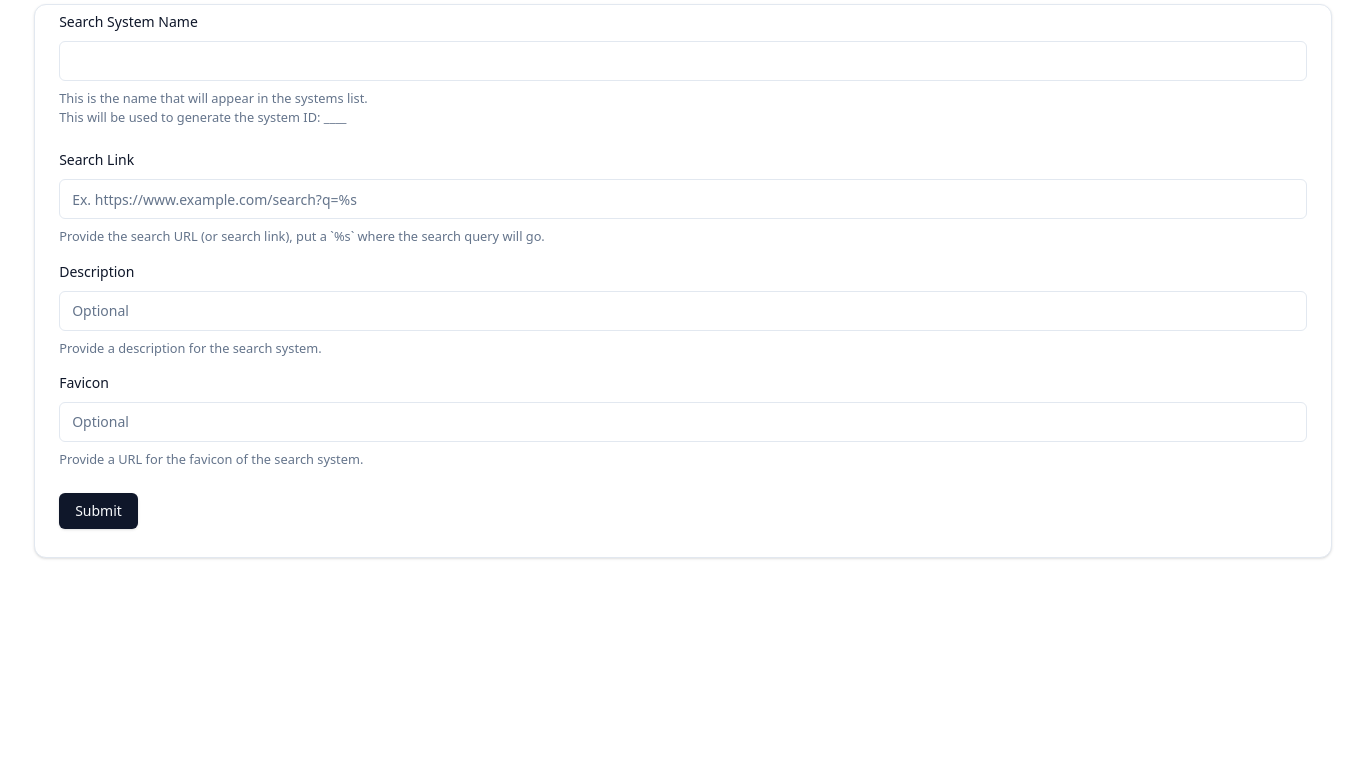
Adding a new search system › displays validation errors for missing required fields
Click the button "Submit": (99, 511) left=59, top=493, right=138, bottom=529
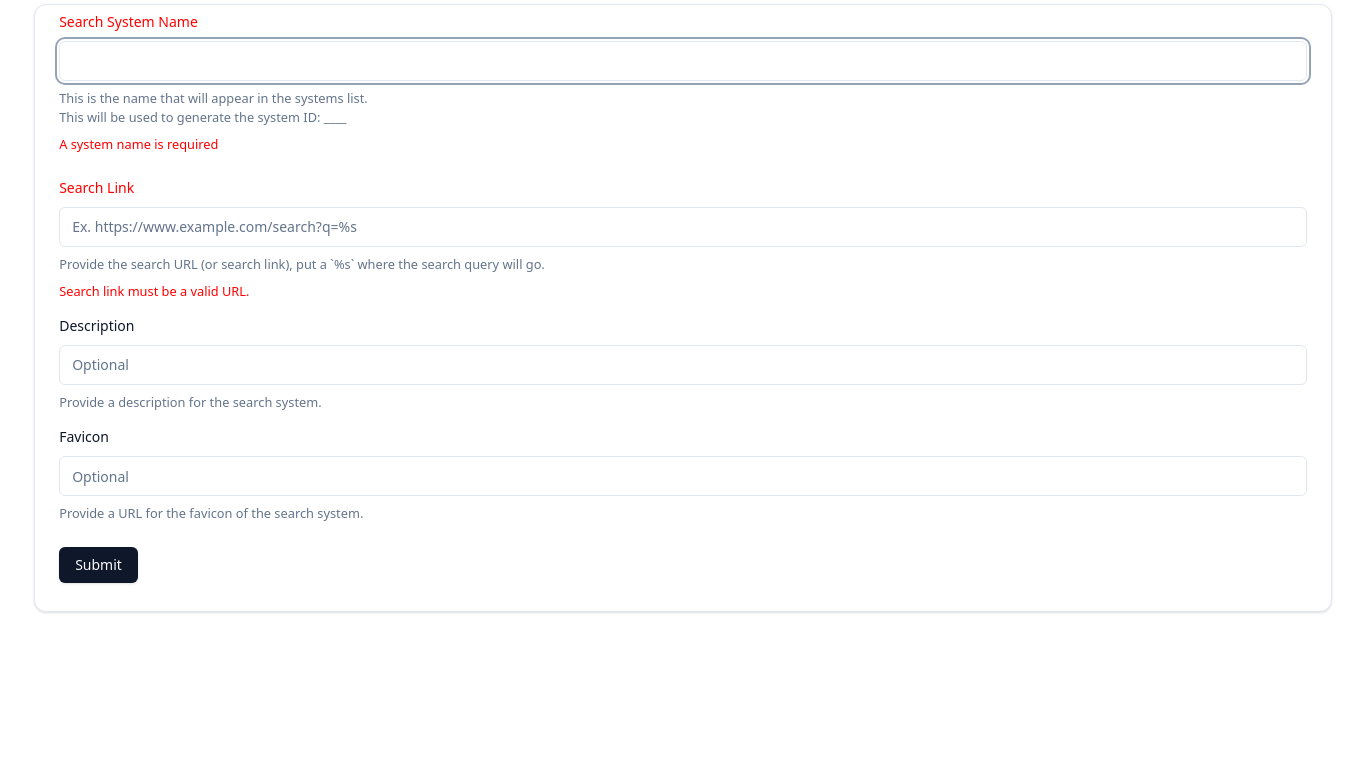
expect the text "A system name is required" is shown: met, box left=59, top=135, right=218, bottom=153
expect the text "Search link must be a valid URL." is shown: met, box left=59, top=282, right=250, bottom=300
